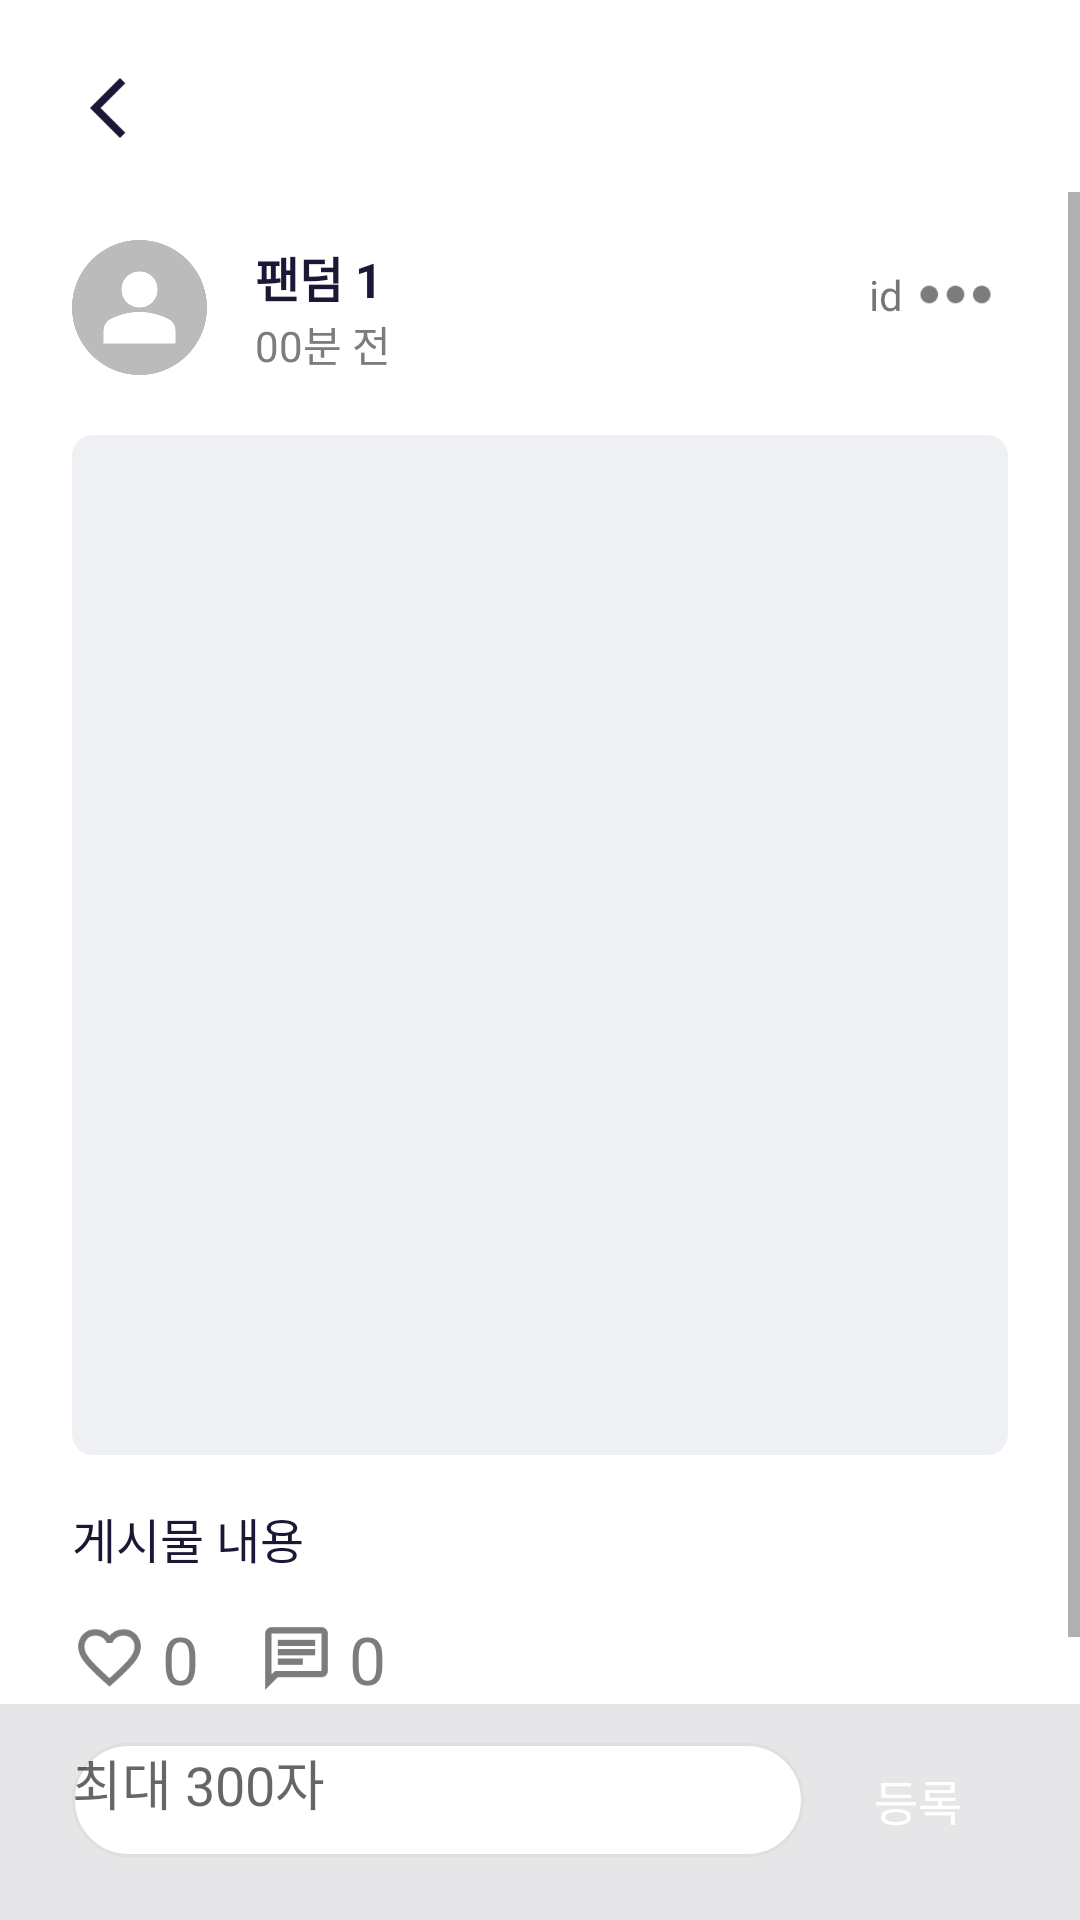

Where to tap for icons on this 1080px x 1920px app screen, as [x,y]:
comment: [296,1658]
heart off: [109,1658]
profile: [139,307]
